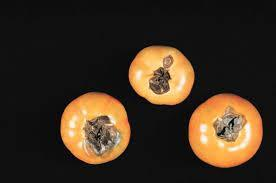tomato early blight: (188, 94, 265, 170), (59, 92, 133, 167), (130, 46, 196, 107)
